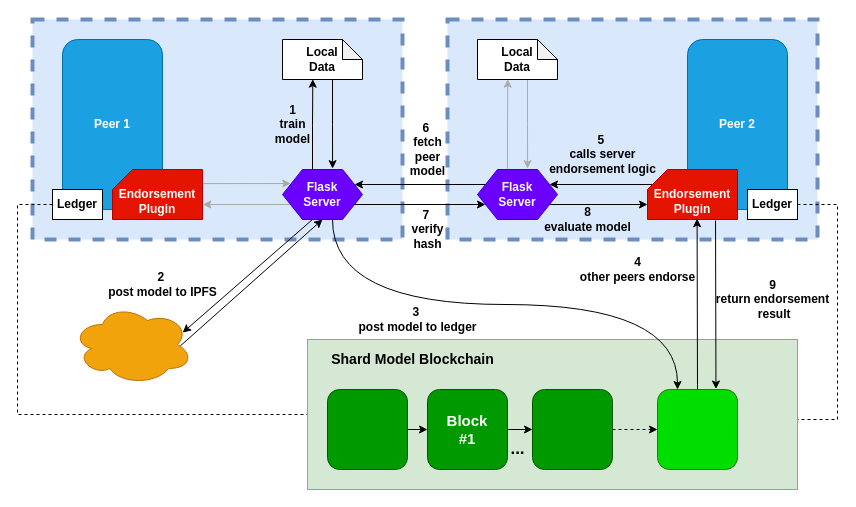
The diagram is 856 pixels wide and 507 high, and some of its shapes have lost their labels. Here are the shapes that lost their labels. From the top down, the centre of each, then its label:
At point 132,344: "IPFS".
At point 367,429: "Genesis Block".
At point 572,429: "Block #B".
At point 697,429: "Block #B+1".
